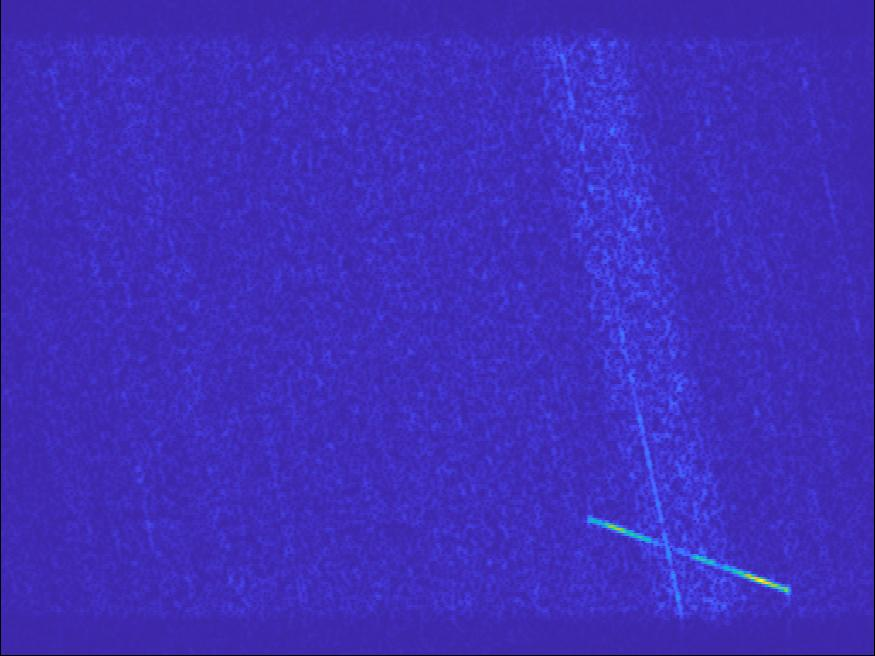Interference: (442, 290, 653, 483), (463, 500, 643, 650), (658, 328, 754, 375), (476, 546, 557, 588)
